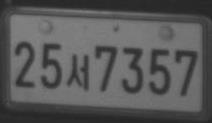2: (14, 40, 36, 89)
3: (121, 45, 144, 93)
5: (40, 41, 63, 89), (148, 47, 171, 95)
7: (174, 48, 199, 97), (93, 45, 118, 93)
서: (65, 53, 91, 91)
